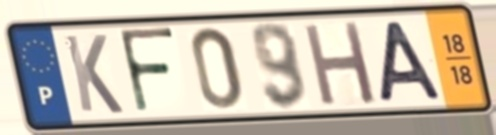0: (188, 24, 248, 114)
9: (249, 20, 310, 114)
A: (378, 19, 447, 105)
F: (115, 25, 179, 118)
H: (300, 18, 380, 109)
K: (60, 32, 127, 116)
